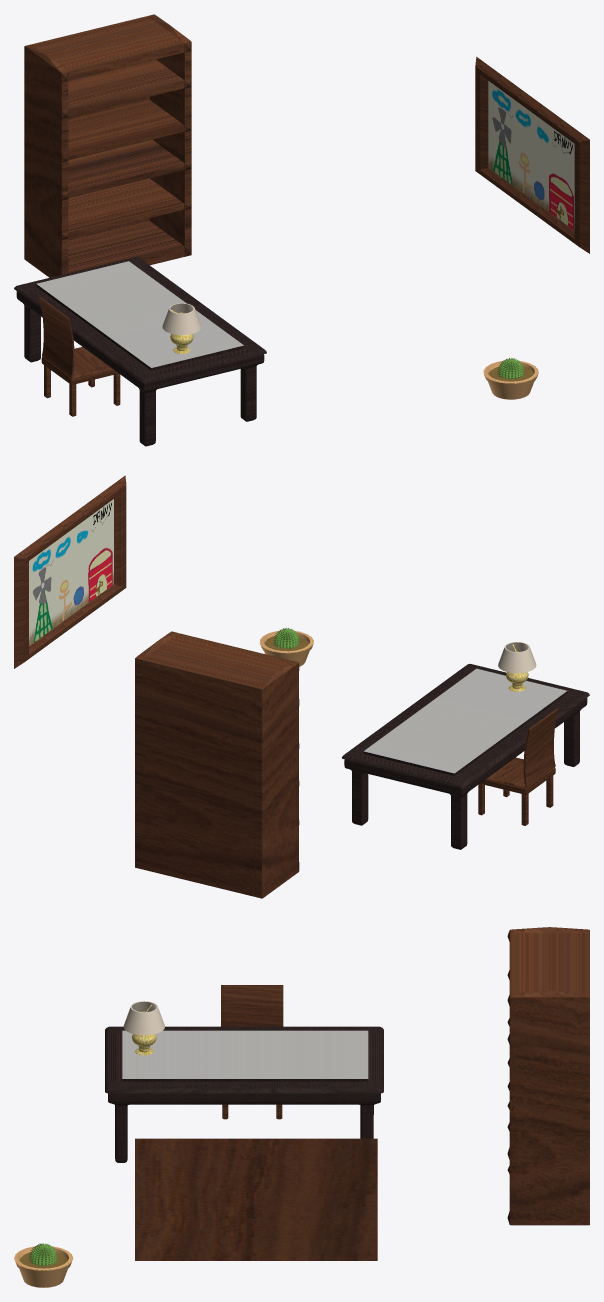
Rendered from Cactus, quadro_puzzle, estante, abajur de mesa, estante, cadeira, mesa.fbx.
The picture shows the model from 3 angles, top to bottom: view 1: azimuth 30°, elevation 25°; view 2: azimuth 150°, elevation 25°; view 3: azimuth 270°, elevation 25°; orthographic projection. The views are drawn at different scales.
Visible parts, largest first — view 1: estante1, mesa_escritorio, quadro, cadeira_escritorio, vaso_cactus, abajur_mesa; view 2: estante1, mesa_escritorio, quadro, cadeira_escritorio, vaso_cactus, abajur_mesa; view 3: quadro, estante1, mesa_escritorio, cadeira_escritorio, vaso_cactus, abajur_mesa.
Part boxes in pixels (box(x1,y1,x2,y2)): estante1: box(24, 14, 191, 277); mesa_escritorio: box(14, 256, 266, 446); quadro: box(475, 56, 589, 253); cadeira_escritorio: box(39, 297, 120, 416); vaso_cactus: box(483, 358, 538, 399); abajur_mesa: box(162, 303, 201, 353); estante1: box(135, 631, 299, 898); mesa_escritorio: box(342, 664, 589, 849); quadro: box(14, 475, 126, 668); cadeira_escritorio: box(478, 708, 558, 825); vaso_cactus: box(259, 628, 313, 666); abajur_mesa: box(498, 642, 536, 691); quadro: box(135, 1138, 377, 1260); estante1: box(507, 927, 589, 1225); mesa_escritorio: box(105, 1026, 383, 1162); cadeira_escritorio: box(221, 985, 283, 1119); vaso_cactus: box(14, 1243, 73, 1287); abajur_mesa: box(123, 1001, 165, 1055).
Bounding box in the file's own units: 28.32 × 12.3 × 27.46.
Materials: 10 (6 with a texture image).
